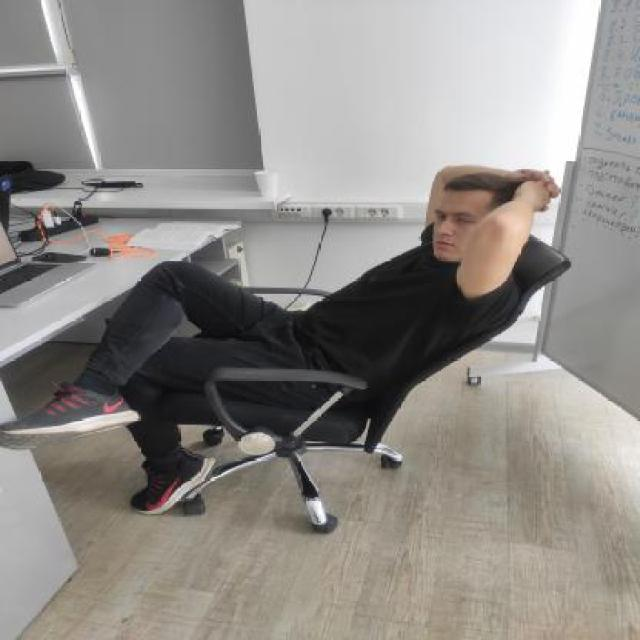chair: (137, 220, 568, 536)
